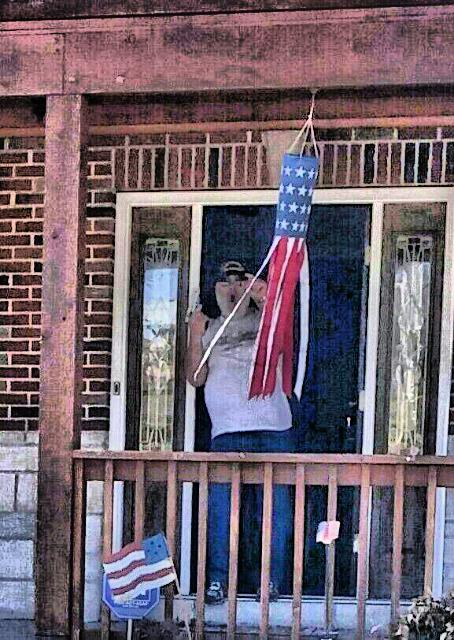pistol: (175, 288, 213, 334)
